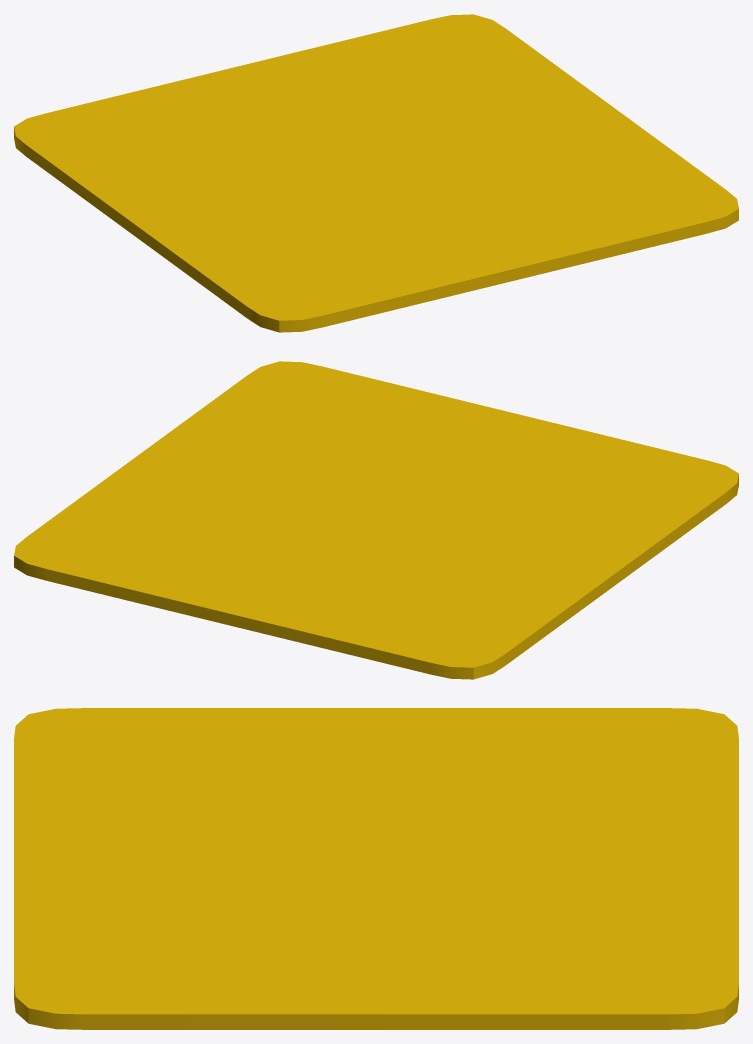
File: SlideCheese.fbx
3 views of the same model, one above another, from view 1: azimuth 30°, elevation 25°; view 2: azimuth 150°, elevation 25°; view 3: azimuth 270°, elevation 25° (orthographic). The views are drawn at different scales.
Parts seen in each view (by area): view 1: SlideCheese; view 2: SlideCheese; view 3: SlideCheese.
Part boxes in pixels (box(x1,y1,x2,y2)): SlideCheese: box(14, 14, 738, 332); SlideCheese: box(14, 361, 738, 679); SlideCheese: box(14, 708, 738, 1029).
Size of the model in its own units: 167 by 3.94 by 167.
